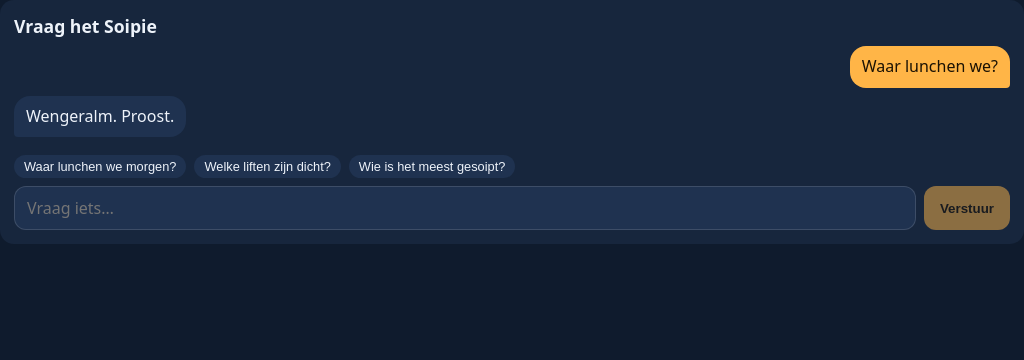
Test: ChatPanel › disables sending while Soipie is thinking and shows the reply
Type "Welke liften zijn dicht?" into the field named "Bericht aan Soipie" at (465, 208), box [14,186,916,230]
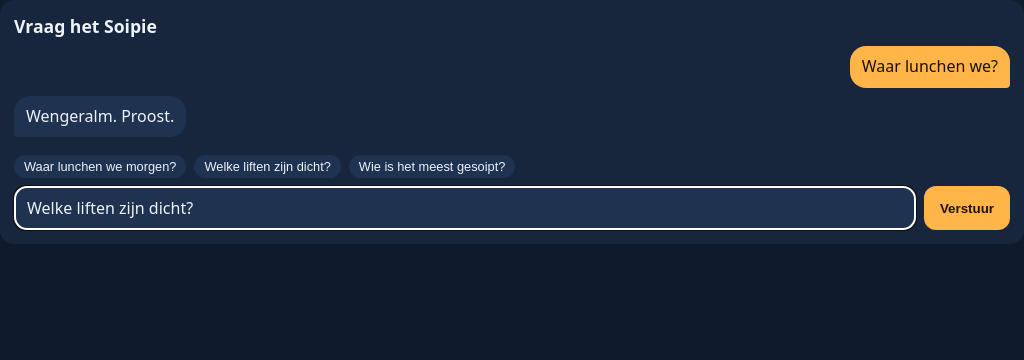
Click the button "Verstuur" at (967, 208), box [924,186,1010,230]
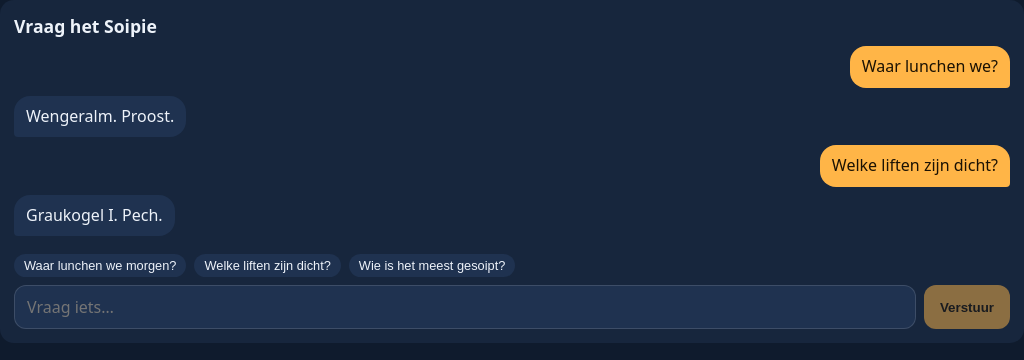
Expected: the button "Verstuur" is disabled, [924,285,1010,329]
Expected: the text "Graukogel I. Pech." is shown, [14,195,175,236]
